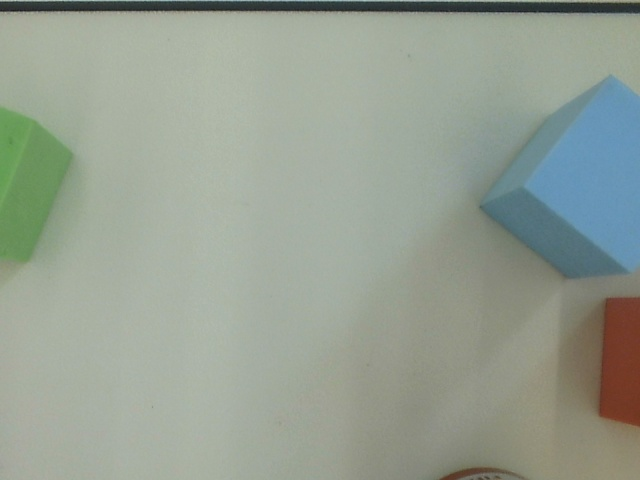bluecube: (468, 70, 640, 286)
cola: (426, 463, 549, 480)
greencube: (1, 100, 76, 266)
redcube: (594, 294, 640, 429)
